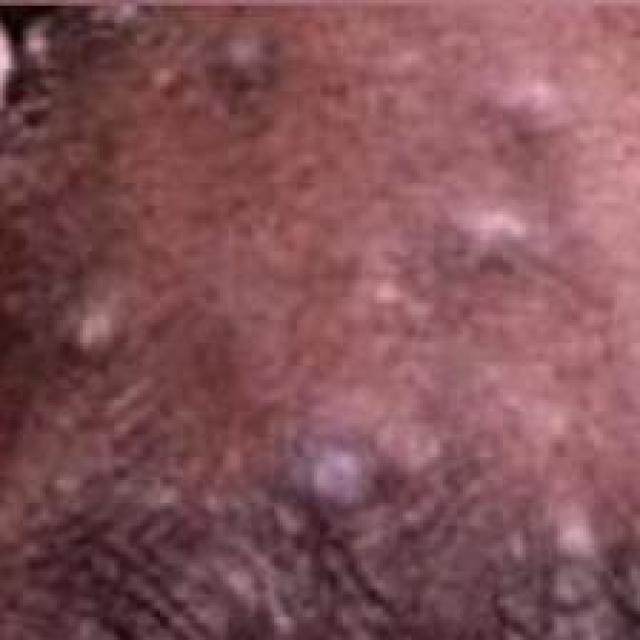monkeypox: (0, 3, 635, 640)
